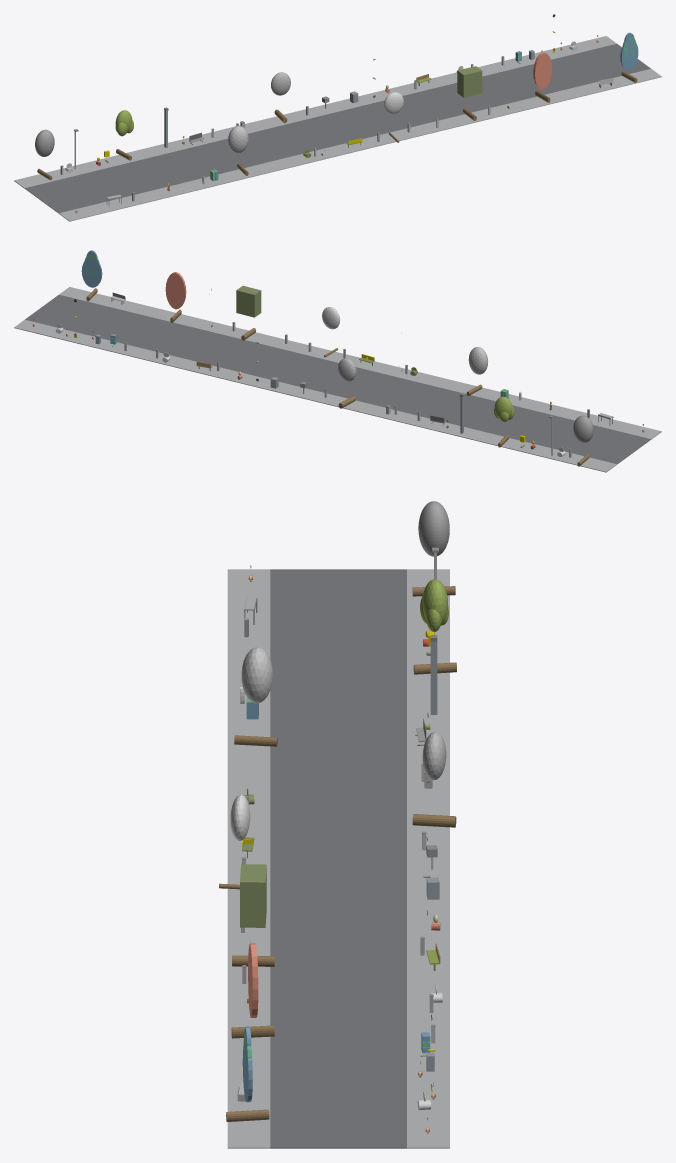
3 views of the same model, one above another, from view 1: azimuth 30°, elevation 25°; view 2: azimuth 150°, elevation 25°; view 3: azimuth 270°, elevation 25° (orthographic). The views are drawn at different scales.
Visible parts, largest first — view 1: road_slab, sidewalk_left, sidewalk_right, inst_0023, inst_0024, inst_0025, inst_0020, inst_0018, inst_0019, inst_0021, inst_0022; view 2: road_slab, sidewalk_right, sidewalk_left, inst_0023, inst_0024, inst_0025, inst_0018, inst_0020, inst_0019, inst_0021, inst_0022; view 3: road_slab, sidewalk_right, sidewalk_left, inst_0023, inst_0020, inst_0018, inst_0019, inst_0021, inst_0024, inst_0025.
Boxes of the visible parts, box(x1,y1,x2,y2) form: road_slab: box(25, 44, 650, 213); sidewalk_left: box(59, 69, 661, 221); sidewalk_right: box(14, 36, 616, 188); inst_0023: box(457, 66, 482, 120); inst_0024: box(533, 52, 552, 102); inst_0025: box(620, 32, 638, 82); inst_0020: box(228, 126, 248, 175); inst_0018: box(35, 129, 54, 180); inst_0019: box(115, 110, 133, 160); inst_0021: box(271, 72, 290, 123); inst_0022: box(384, 92, 403, 142); road_slab: box(25, 294, 651, 464); sidewalk_right: box(14, 319, 616, 472); sidewalk_left: box(59, 287, 661, 439); inst_0023: box(236, 285, 261, 340); inst_0024: box(165, 272, 186, 322); inst_0025: box(81, 250, 102, 301); inst_0018: box(573, 415, 593, 466); inst_0020: box(466, 347, 488, 395); inst_0019: box(494, 396, 514, 447); inst_0021: box(338, 358, 356, 408); inst_0022: box(322, 307, 340, 357); road_slab: box(270, 569, 406, 1148); sidewalk_right: box(407, 569, 449, 1148); sidewalk_left: box(227, 569, 270, 1148); inst_0023: box(232, 864, 274, 966); inst_0020: box(234, 647, 277, 746); inst_0018: box(412, 501, 455, 596); inst_0019: box(413, 579, 456, 674); inst_0021: box(412, 731, 456, 827); inst_0024: box(231, 943, 274, 1038); inst_0025: box(226, 1027, 269, 1121).
Bounding box in the file's own units: 80 × 6.08 × 13.92.
